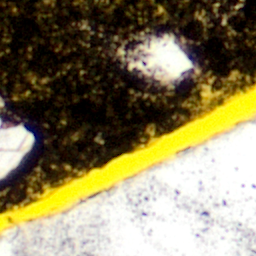cement_matrix: (0, 0, 255, 210), (122, 33, 196, 86)
cracks: (0, 81, 255, 234)
gravel_crushed_stones: (0, 116, 255, 255), (123, 34, 195, 85), (0, 125, 29, 176), (0, 99, 1, 107)
